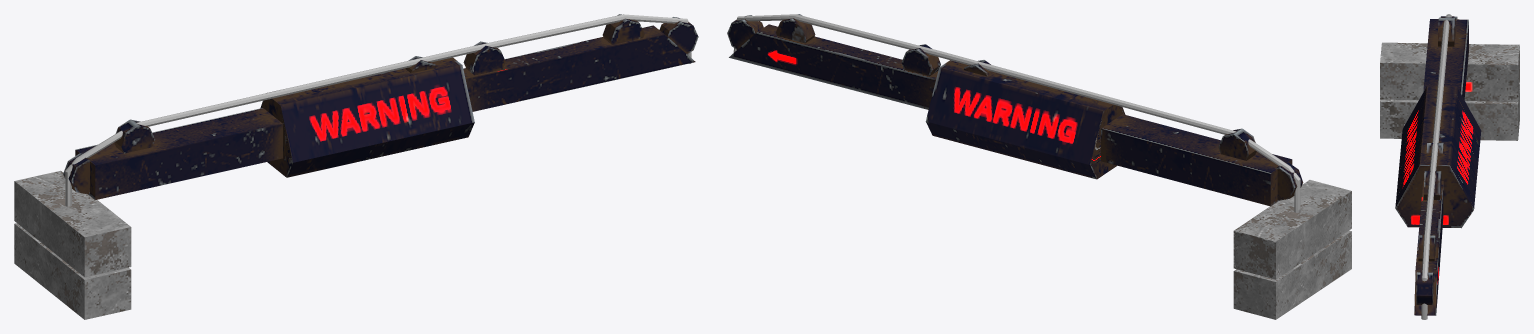
The model's file is arm.glb.
3 renders of one model, left to right at view 1: azimuth 30°, elevation 25°; view 2: azimuth 150°, elevation 25°; view 3: azimuth 270°, elevation 25°, orthographic. The views are drawn at different scales.
Visible parts, largest first — view 1: kran; view 2: kran; view 3: kran.
Boxes of the visible parts, box(x1,y1,x2,y2) form: kran: box(14, 14, 698, 319); kran: box(727, 14, 1351, 319); kran: box(1380, 14, 1519, 319).
Size of the model in its own units: 9.7 by 2.22 by 2.03.
1 material, 1 textured.
